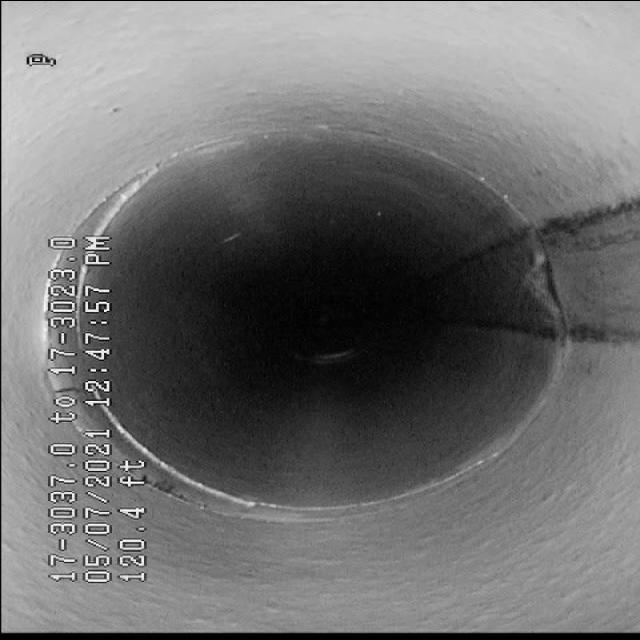Crack: (149, 486, 318, 536)
